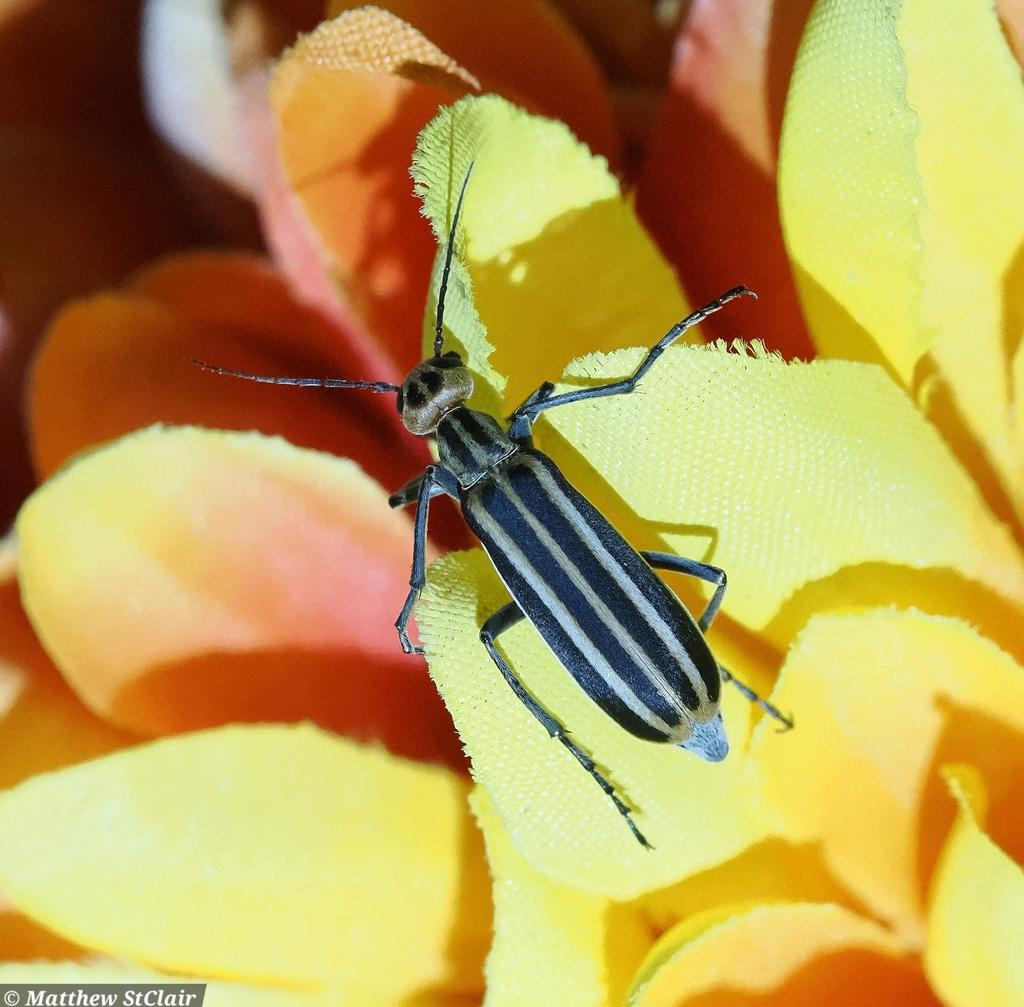blister_beetle: (134, 66, 925, 881)
